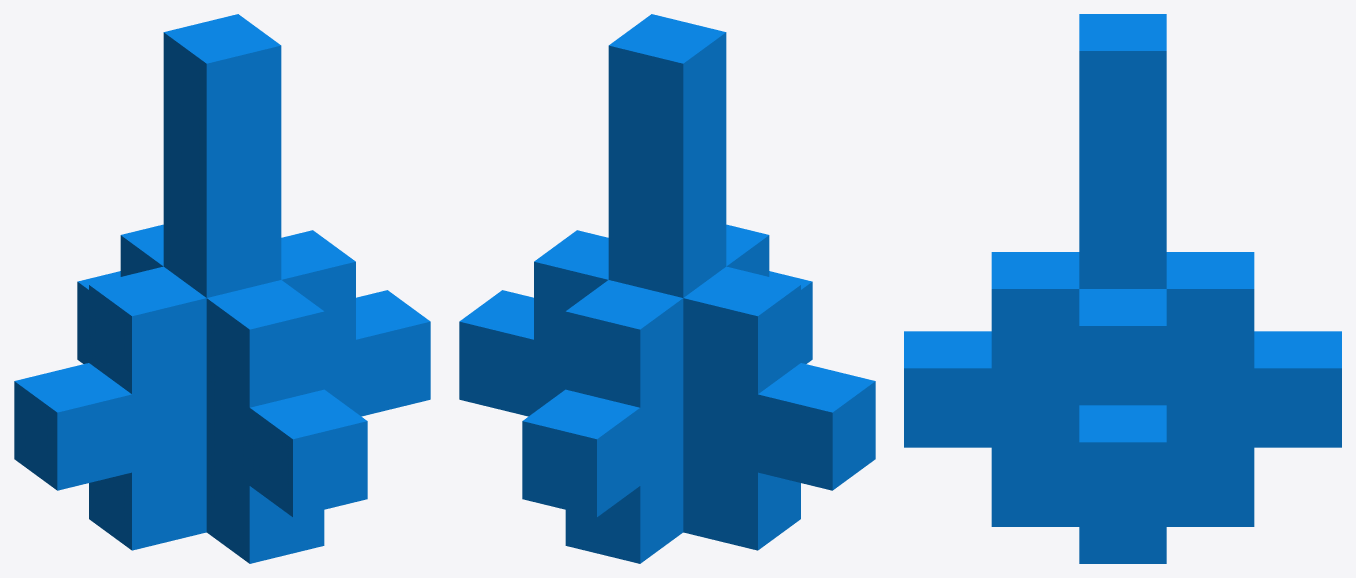
The model's file is VoxelEffects_GunFire_01.FBX.
The picture shows the model from 3 angles, left to right: view 1: azimuth 30°, elevation 25°; view 2: azimuth 150°, elevation 25°; view 3: azimuth 270°, elevation 25°; orthographic projection.
Parts seen in each view (by area): view 1: VoxelEffects_GunFire_01; view 2: VoxelEffects_GunFire_01; view 3: VoxelEffects_GunFire_01.
Part boxes in pixels (<box>): VoxelEffects_GunFire_01: <box>14,14,430,563</box>; VoxelEffects_GunFire_01: <box>459,14,875,563</box>; VoxelEffects_GunFire_01: <box>904,14,1341,563</box>.
Bounding box in the file's own units: 50 × 60 × 50.
